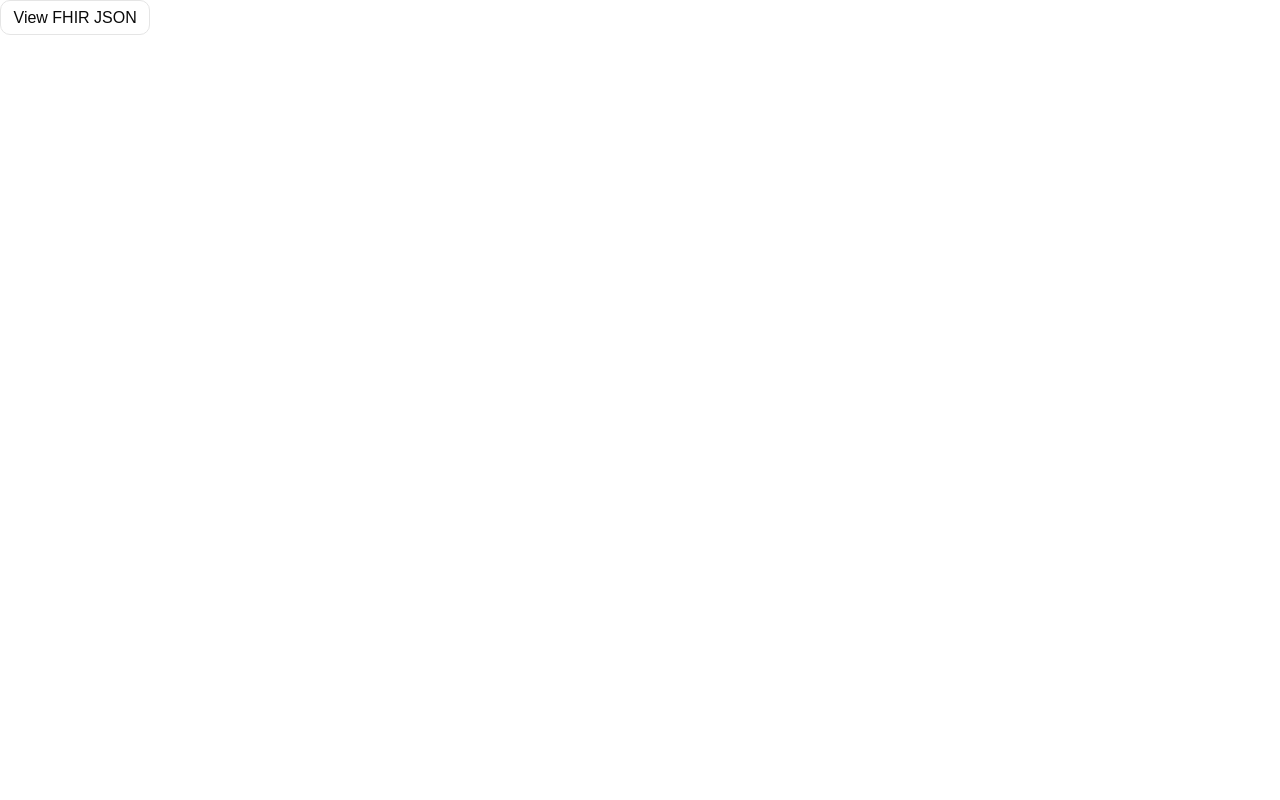
SourceDialog › copies the formatted JSON and announces it
This screenshot has width=1280, height=800.
Click the button "View FHIR JSON". click: (75, 18)
box: top-left (0, 0), bottom-right (150, 35)
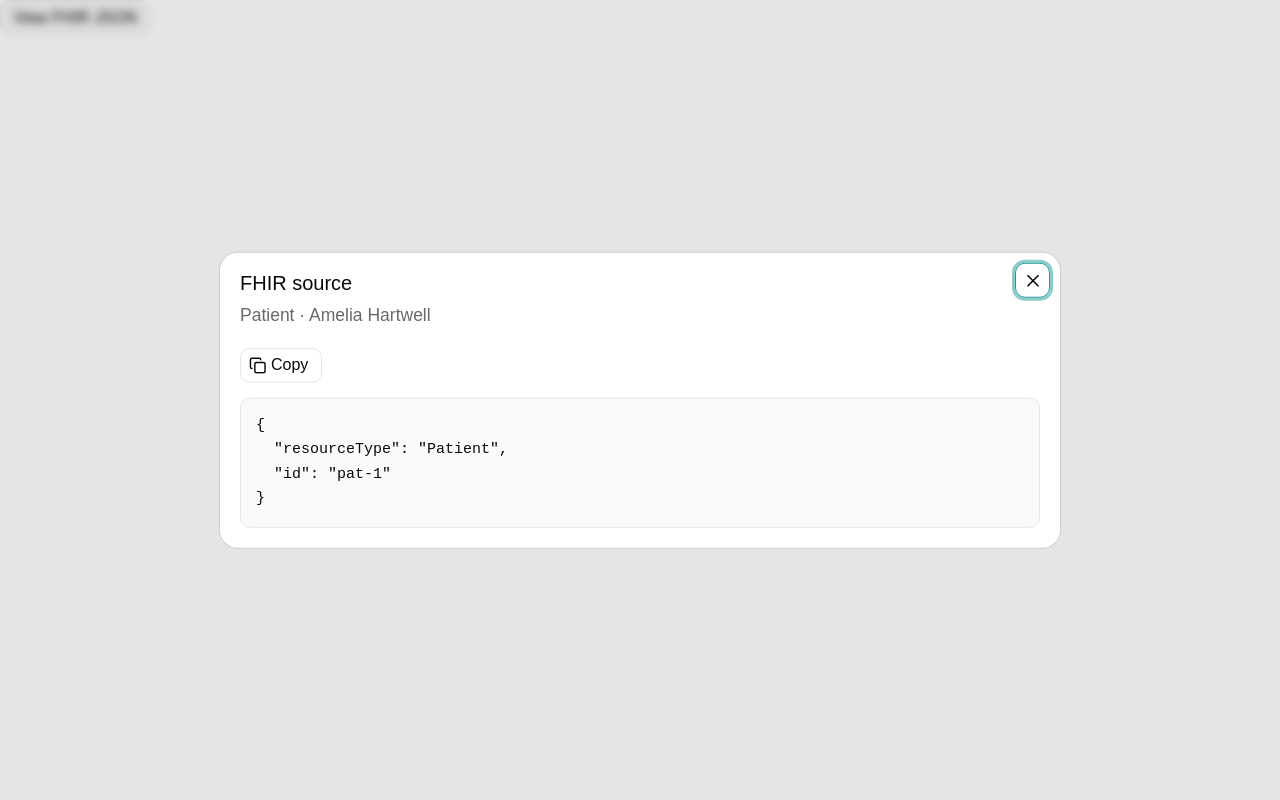
Click the button "Copy". click: (281, 365)
box: top-left (240, 348), bottom-right (322, 383)
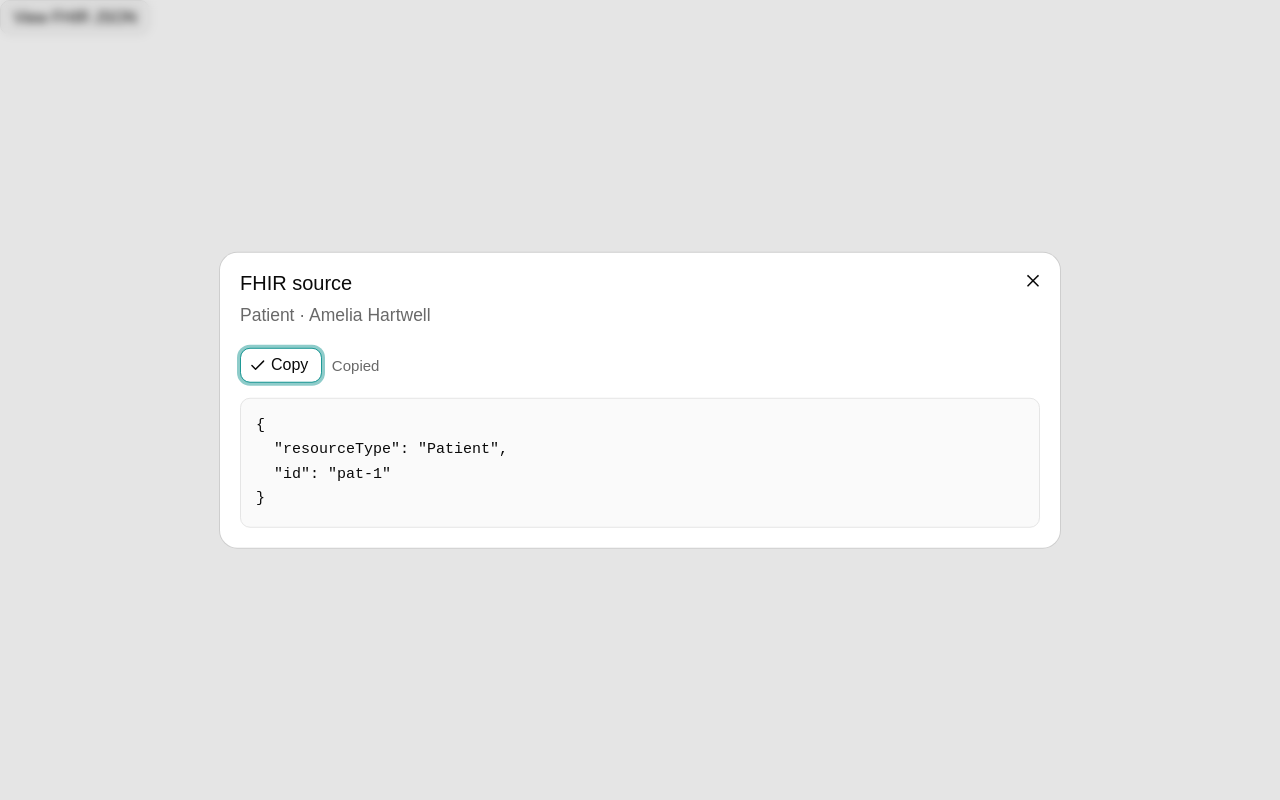
Result: the message reads "Copied" at top-left (332, 356), bottom-right (379, 373)
